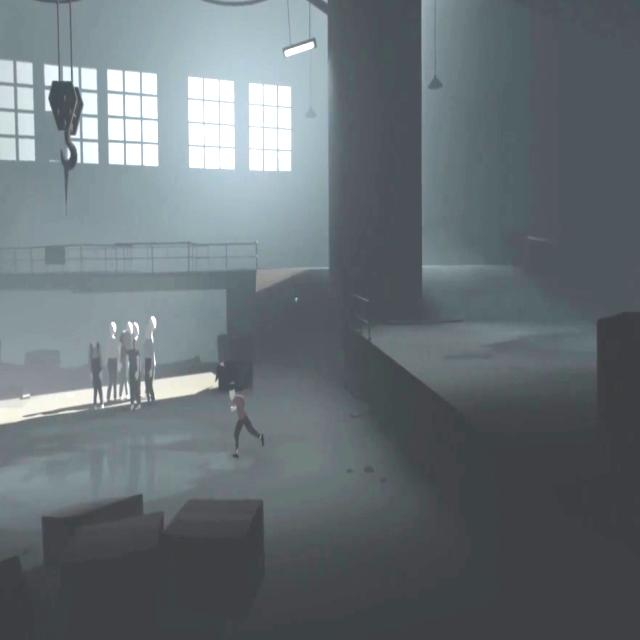boy: (227, 379, 263, 458)
zombie: (122, 333, 142, 410), (89, 333, 104, 409), (107, 321, 119, 404), (144, 326, 155, 404), (123, 322, 133, 333), (149, 316, 156, 326), (134, 321, 139, 333)
